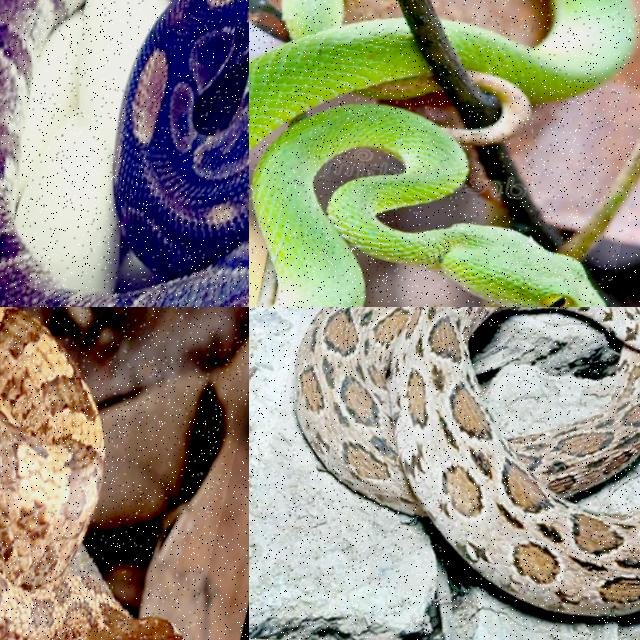Daboia siamensis: (292, 307, 639, 615)
Ovophis monticola: (0, 307, 182, 639)
Python bivittatus: (0, 0, 248, 306)
Trimeresurus: (253, 105, 603, 306)
